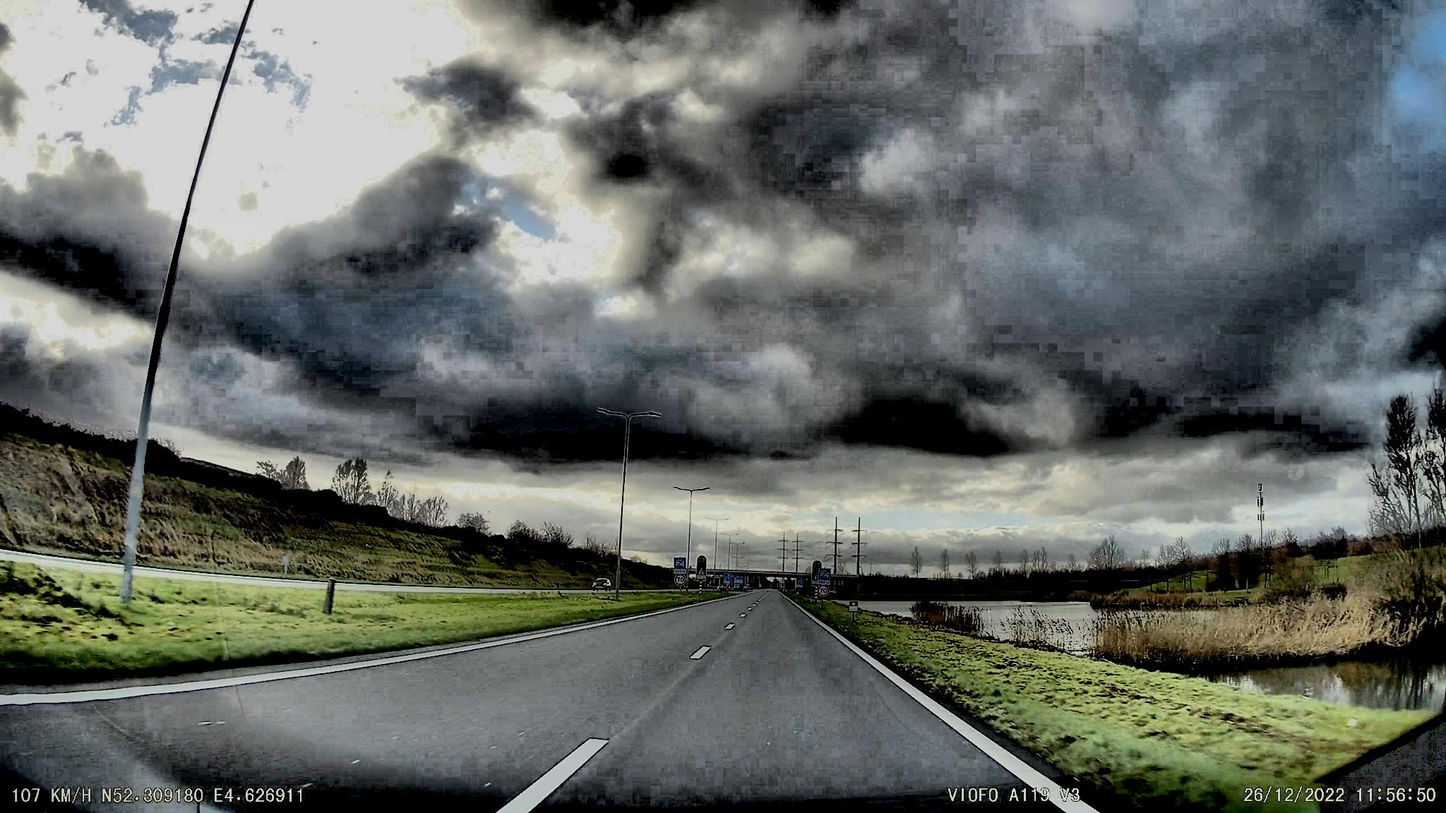Roads: (0, 596, 1077, 813)
